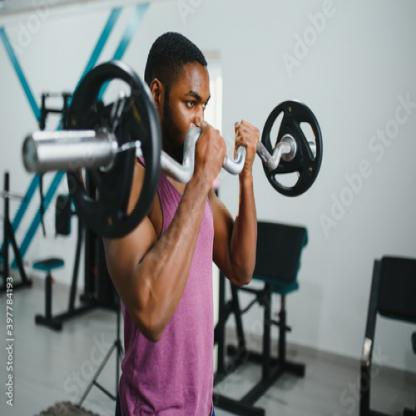Barbell: (62, 55, 164, 245), (259, 95, 327, 200)
